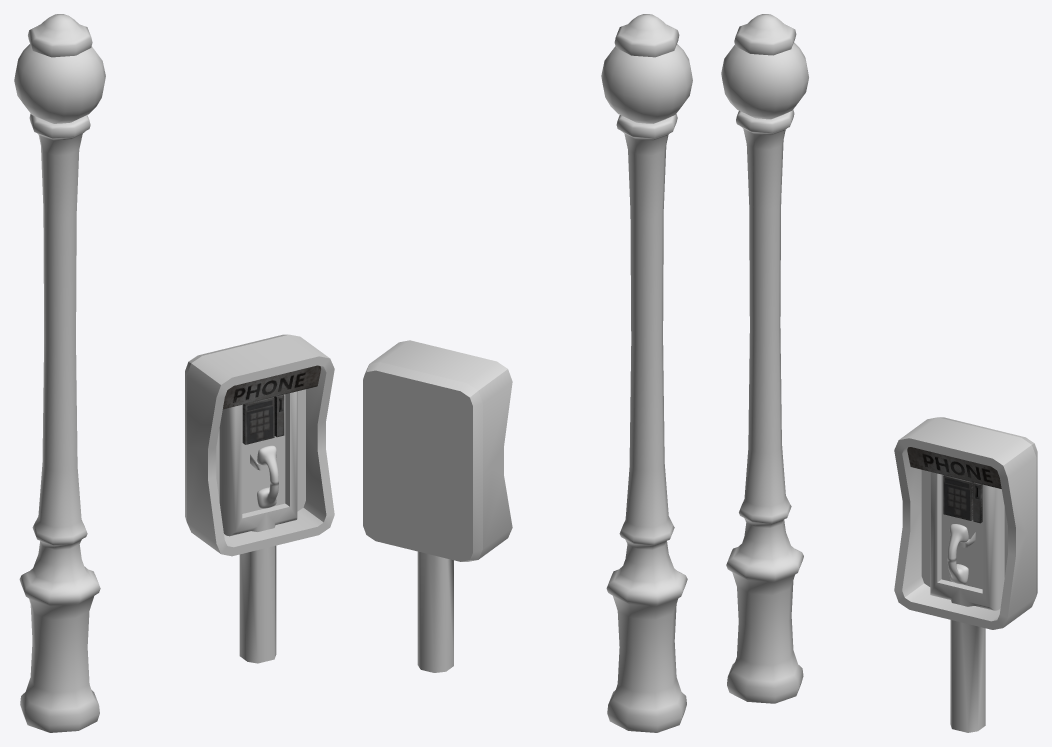
File: Payphone 2.fbx
3 views of the same model, side by side, from view 1: azimuth 30°, elevation 25°; view 2: azimuth 150°, elevation 25°; view 3: azimuth 330°, elevation 25° (orthographic). The views are drawn at different scales.
Visible parts, largest first — view 1: Cube.006, Cube, Cube.001, Cube.007, Cube.004, Cube.003, Cube.002; view 2: Cube.006, Cube, Cube.007, Cube.001; view 3: Cube.006, Cube, Cube.001, Cube.007, Cube.004, Cube.003, Cube.002.
Boxes of the visible parts, bbox=[...] form: Cube.006: bbox=[19, 14, 100, 732]; Cube: bbox=[185, 334, 334, 556]; Cube.001: bbox=[219, 391, 297, 663]; Cube.007: bbox=[14, 44, 105, 123]; Cube.004: bbox=[223, 365, 320, 409]; Cube.003: bbox=[242, 394, 284, 444]; Cube.002: bbox=[257, 445, 278, 508]; Cube.006: bbox=[606, 14, 687, 732]; Cube: bbox=[363, 340, 512, 561]; Cube.007: bbox=[601, 44, 692, 123]; Cube.001: bbox=[417, 551, 453, 672]; Cube.006: bbox=[726, 14, 803, 703]; Cube: bbox=[894, 417, 1037, 629]; Cube.001: bbox=[930, 472, 1004, 732]; Cube.007: bbox=[721, 42, 808, 119]; Cube.004: bbox=[907, 447, 1001, 488]; Cube.003: bbox=[943, 475, 982, 523]; Cube.002: bbox=[947, 524, 968, 584].
Size of the model in its own units: 371 by 822 by 101.
